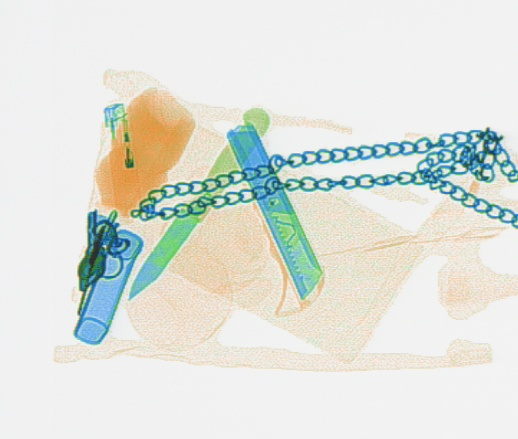knife: (128, 106, 270, 299), (225, 122, 324, 310)
lighter: (102, 102, 140, 214)
